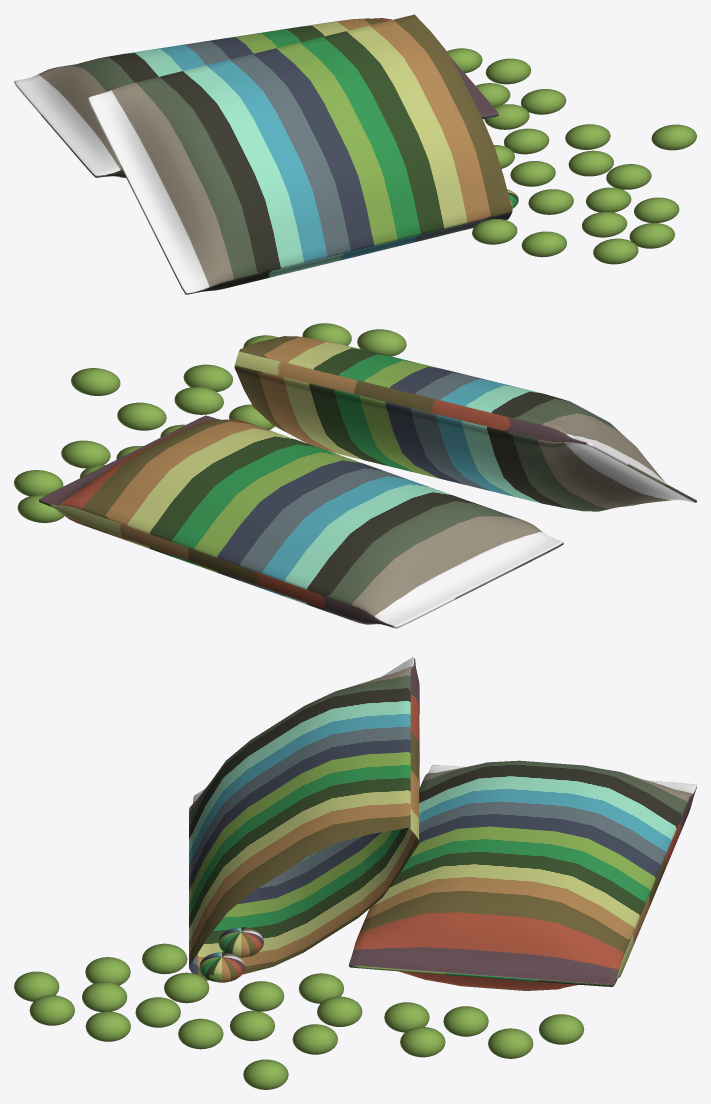
File: candies.fbx
3 renders of one model, top to bottom at view 1: azimuth 30°, elevation 25°; view 2: azimuth 150°, elevation 25°; view 3: azimuth 270°, elevation 25°, orthographic. The views are drawn at different scales.
Visible parts, largest first — view 1: Skittle_216; view 2: Skittle_216; view 3: Skittle_216.
Boxes of the visible parts, x1,y1,x2,y2 form: Skittle_216: (14,14,696,294); Skittle_216: (14,323,696,628); Skittle_216: (14,657,696,1089).
Size of the model in its own units: 985 by 243 by 958.
